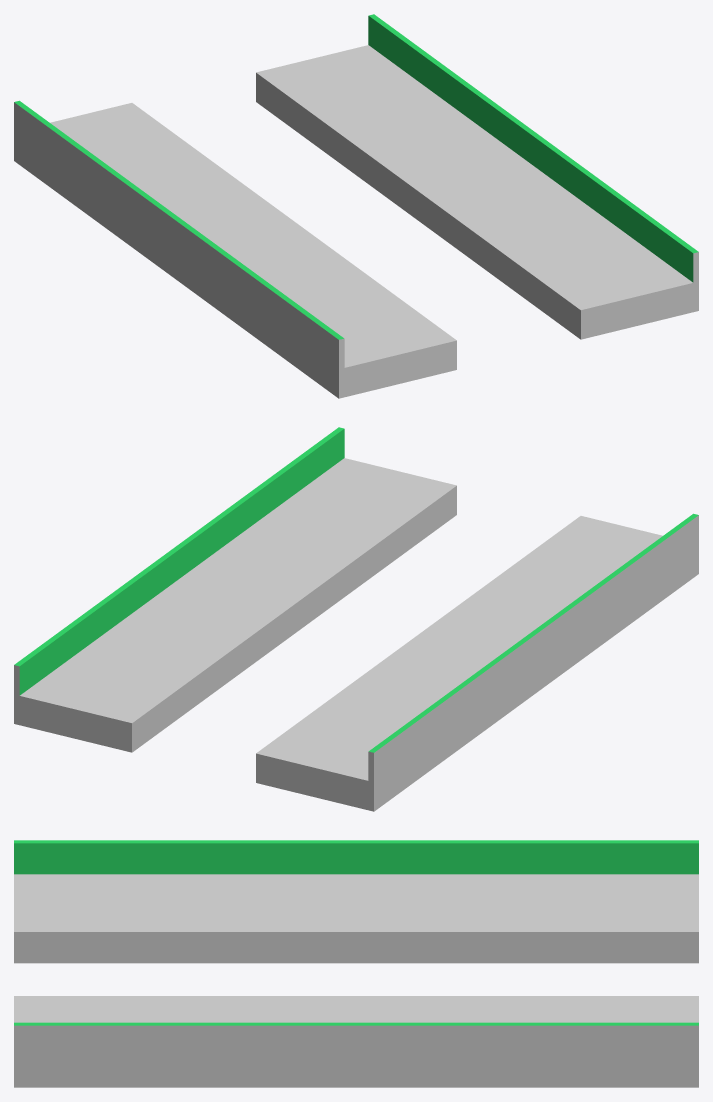
3 views of the same model, one above another, from view 1: azimuth 30°, elevation 25°; view 2: azimuth 150°, elevation 25°; view 3: azimuth 270°, elevation 25° (orthographic). The views are drawn at different scales.
Visible parts, largest first — view 1: Cube.025, Cube.019; view 2: Cube.025, Cube.019; view 3: Cube.019, Cube.025.
Part boxes in pixels (x1,y1,x2,y2): Cube.025: (256, 14, 698, 339); Cube.019: (14, 100, 456, 398); Cube.025: (14, 427, 456, 752); Cube.019: (256, 513, 698, 811); Cube.019: (14, 840, 698, 963); Cube.025: (14, 996, 698, 1087).
Size of the model in its own units: 12.8 by 2 by 20.
